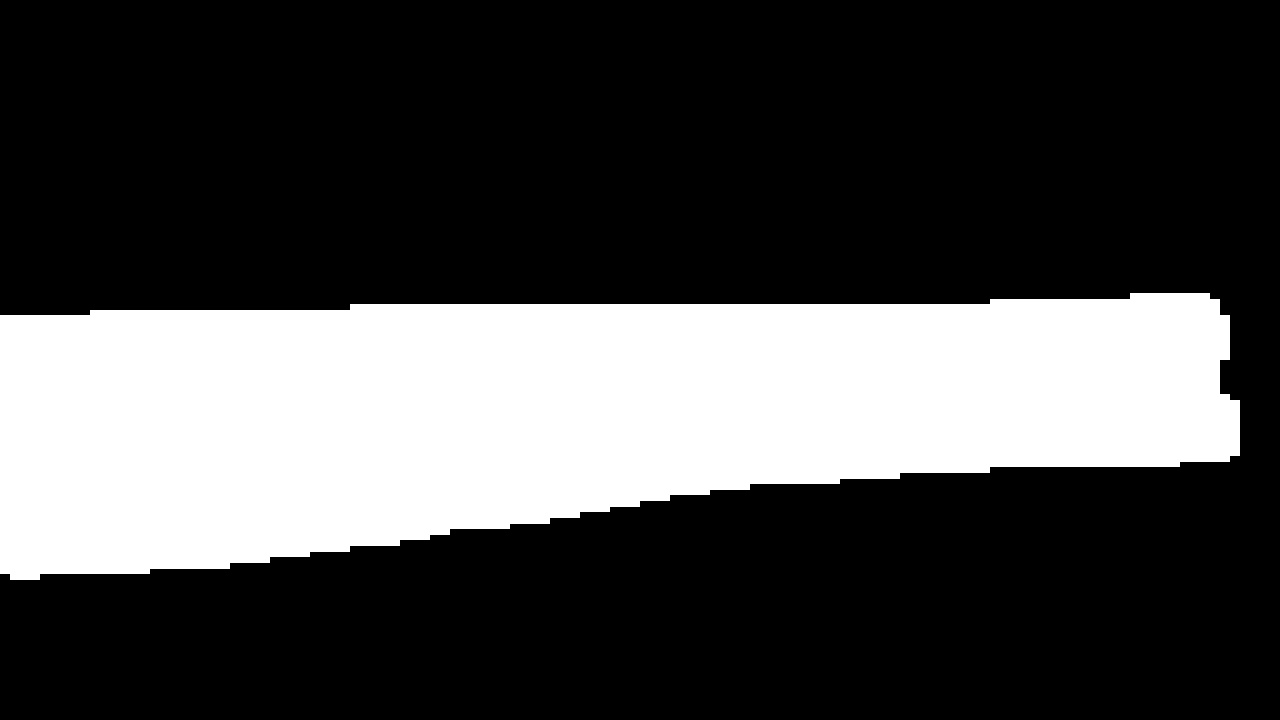Turbine: (11, 271, 1250, 601)
